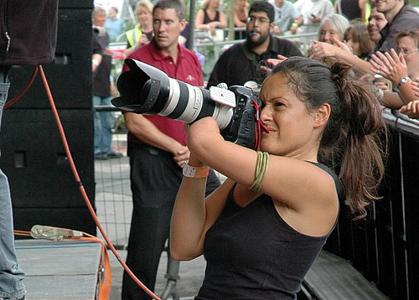person: (171, 56, 379, 300)
